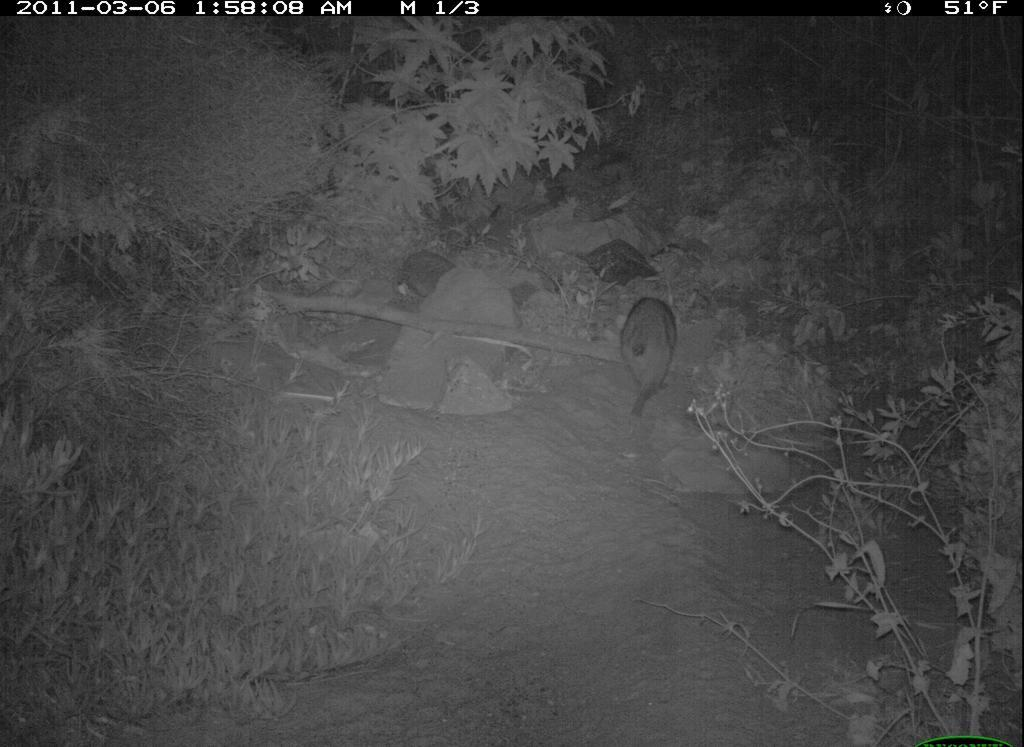raccoon: (598, 285, 701, 438)
